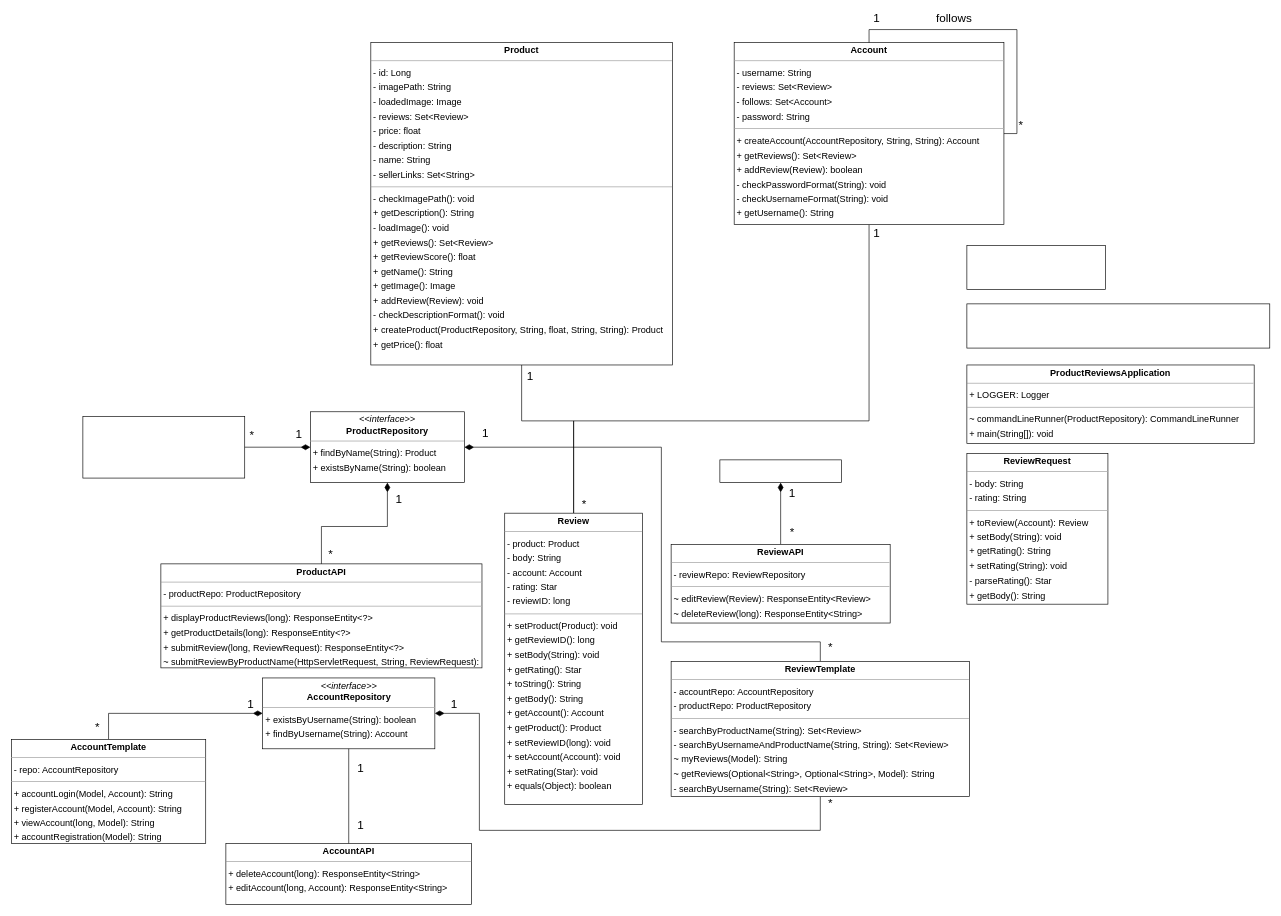
Image size: 1281x916. Some labels were removed from this diagram. Here are the shapes that lost their labels. From the top down, the centre of each, then its label:
At (x=1035, y=267): "Patcher + patch(Object, Object): void".
At (x=1118, y=325): "WebUtil + getPreviousPageByRequest(HttpServletRequest): Optional<String>".
At (x=163, y=447): "DashboardTemplate - productRepo: ProductRepository + dashboard(Model): String".
At (x=780, y=471): "<<interface>> ReviewRepository".
